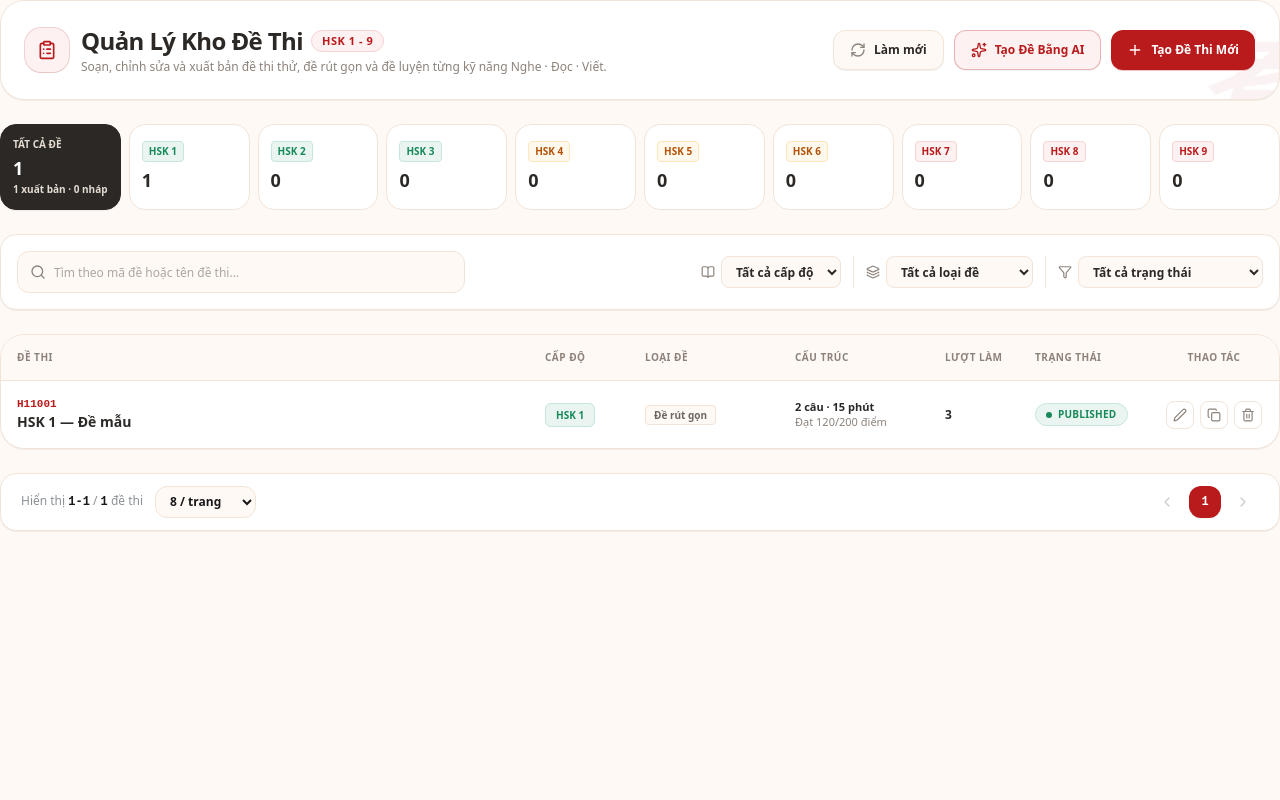
AdminExamManager › restores a question’s options when switching type and back
Click the button named "Chỉnh sửa đề H11001" at (1180, 415), box [1166,401,1194,429]
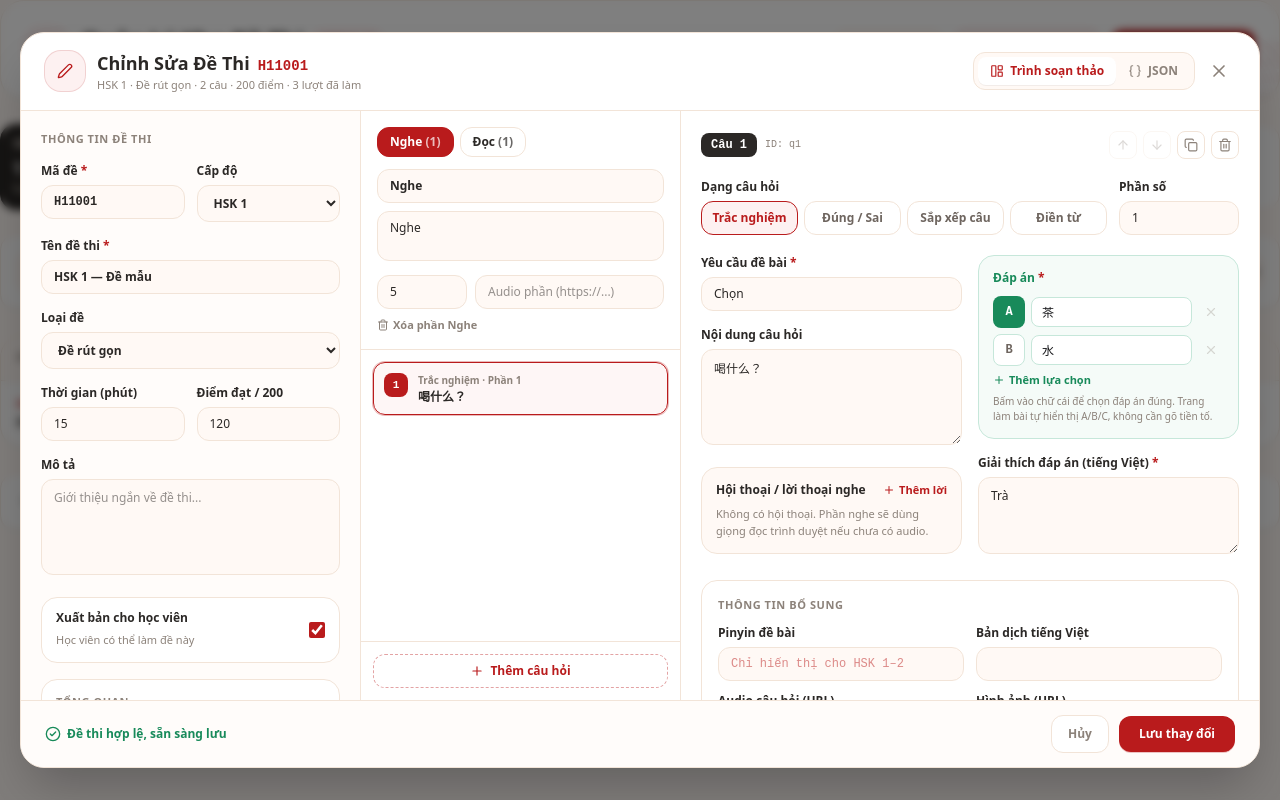
Click the button "Đúng / Sai" at (852, 218), box [804,200,901,234]
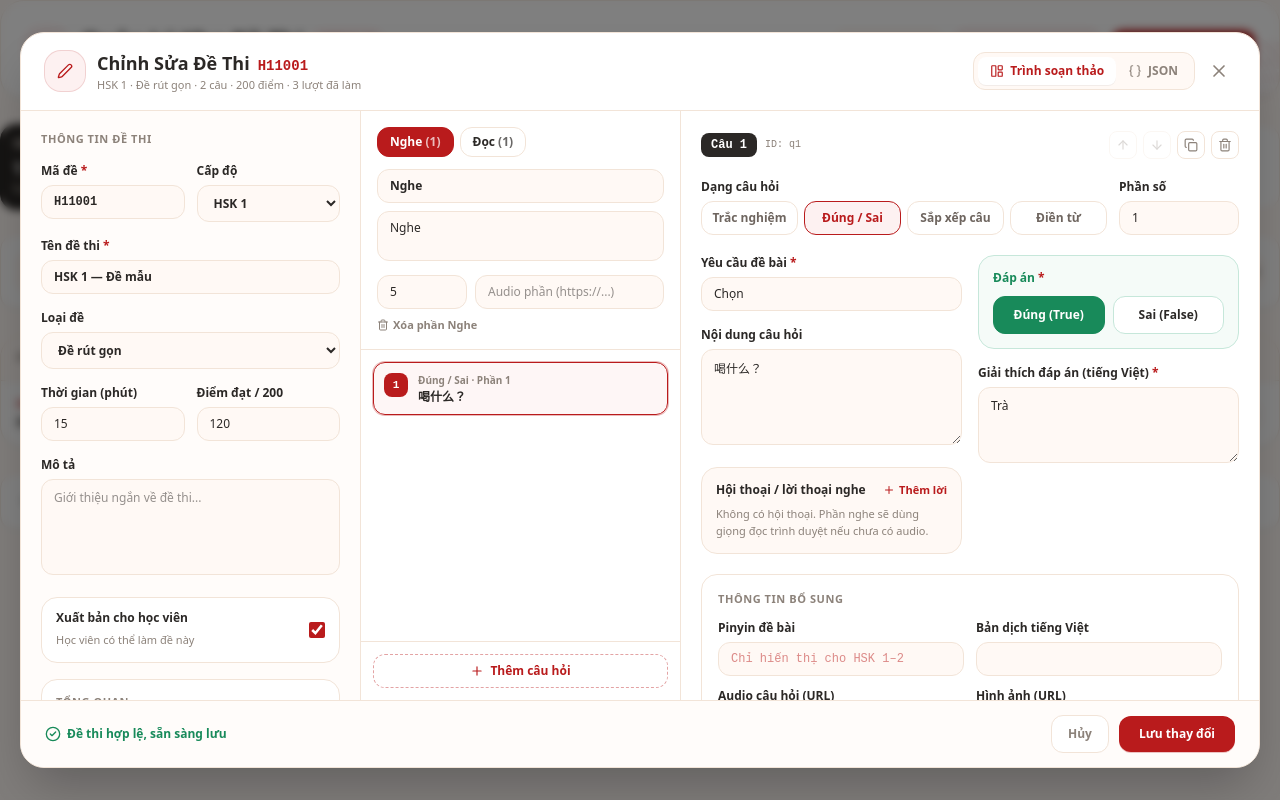
Click the button "Trắc nghiệm" at (750, 218), box [701,200,798,234]
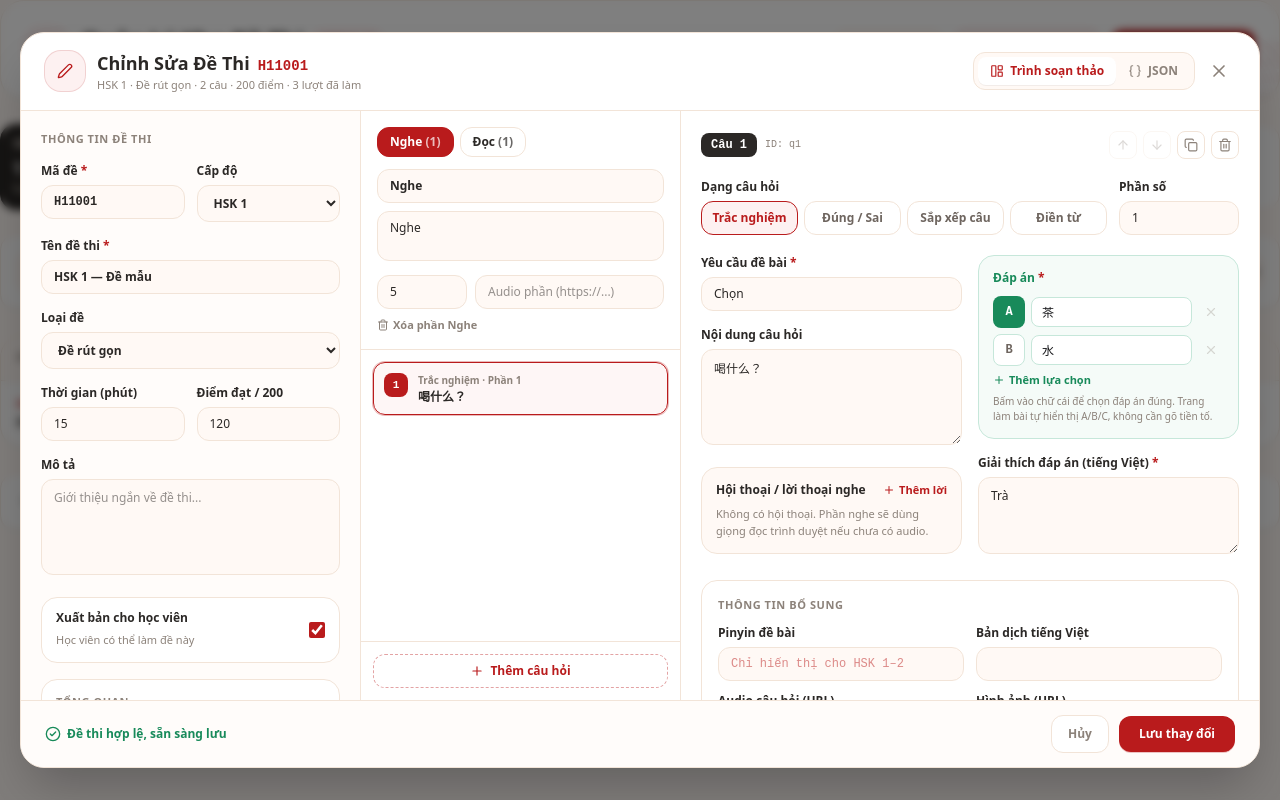
Expected: the field showing "Chọn" below "Yêu cầu đề bài" is shown, [701,276,962,310]
Expected: the field named "Lựa chọn A" holds "茶", [1031,296,1192,326]
